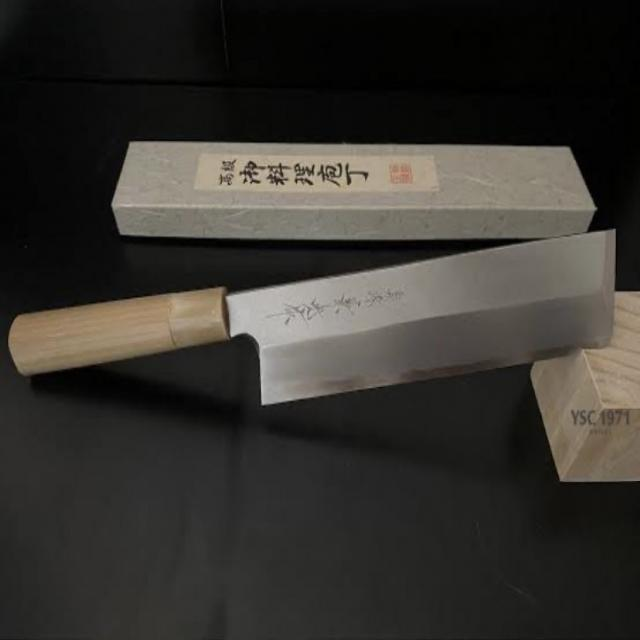Knife: (11, 160, 622, 466)
